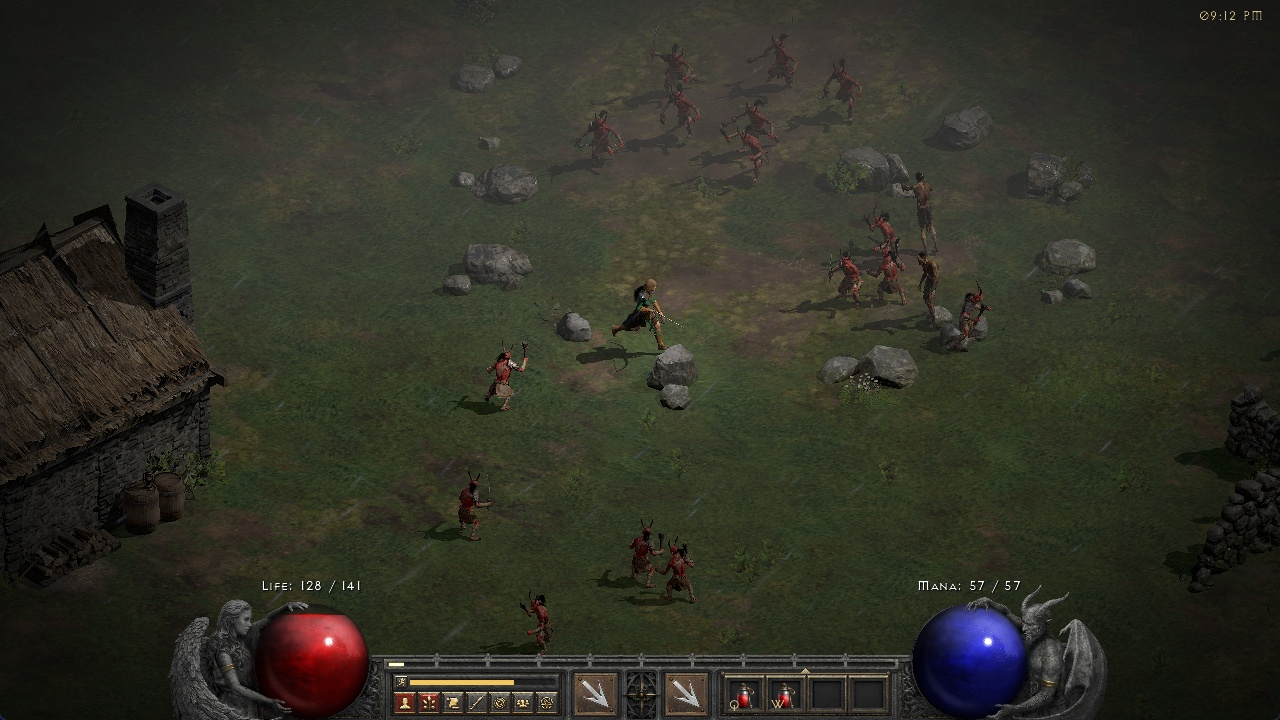fallen: (481, 336, 536, 418), (509, 586, 559, 646), (454, 469, 492, 543), (576, 109, 626, 164), (956, 282, 998, 344), (826, 64, 871, 119), (723, 127, 770, 179), (757, 37, 804, 85), (827, 252, 868, 307), (664, 539, 700, 601), (623, 522, 661, 579), (665, 85, 706, 136), (873, 249, 903, 303), (862, 211, 905, 247), (649, 42, 692, 74), (738, 101, 773, 125)
